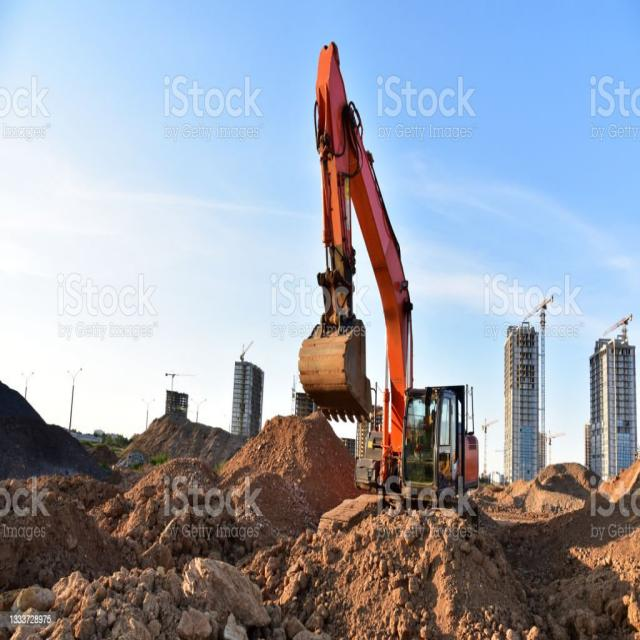excavator: (298, 41, 479, 538)
